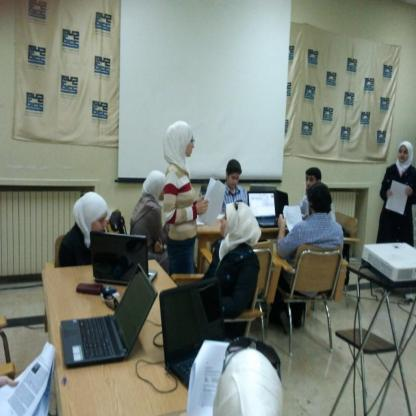board: (57, 266, 158, 370), (158, 276, 229, 390), (90, 232, 158, 286), (249, 191, 286, 228)
